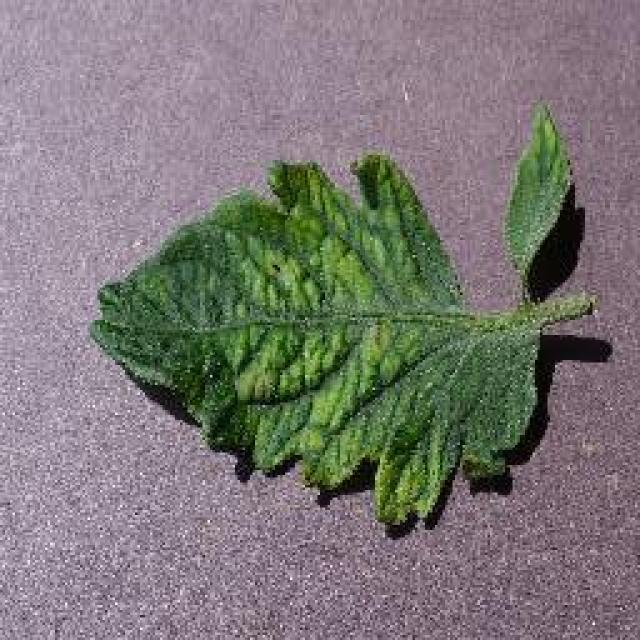Tomato spider mites leaf: (85, 158, 543, 528), (506, 106, 579, 299)
